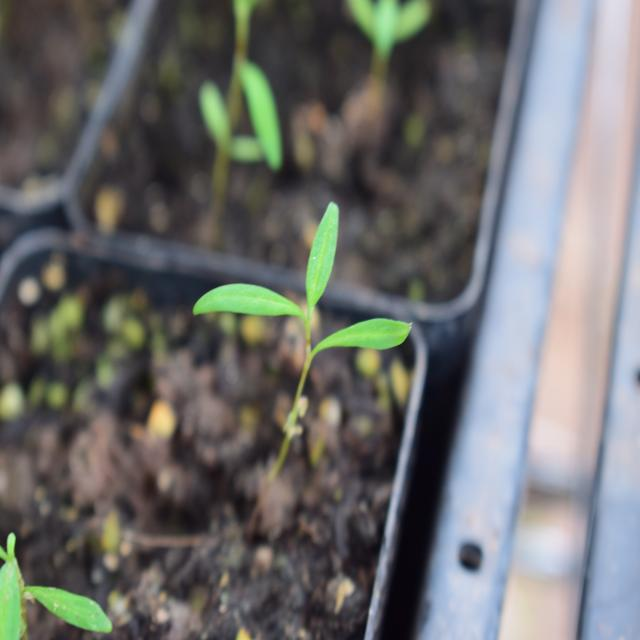white_smart_weed: (206, 185, 422, 425)
